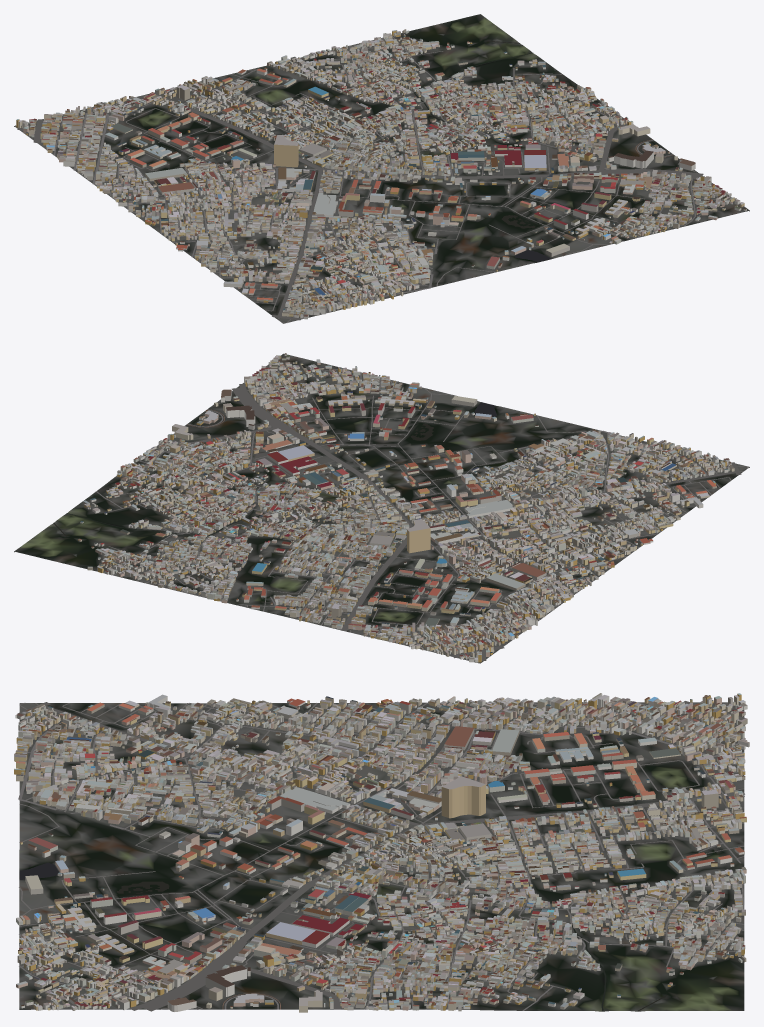
The picture shows the model from 3 angles, top to bottom: view 1: azimuth 30°, elevation 25°; view 2: azimuth 150°, elevation 25°; view 3: azimuth 270°, elevation 25°; orthographic projection. The views are drawn at different scales.
Visible parts, largest first — view 1: buildings, ground, roads, water; view 2: buildings, ground, roads, water; view 3: buildings, ground, roads, water.
Part boxes in pixels (left/top/right/bottom): buildings: left=16, top=29, right=746, bottom=319; ground: left=14, top=14, right=749, bottom=323; roads: left=14, top=36, right=731, bottom=323; water: left=414, top=41, right=551, bottom=261; buildings: left=78, top=353, right=734, bottom=662; ground: left=14, top=353, right=749, bottom=663; roads: left=96, top=358, right=748, bottom=663; water: left=53, top=402, right=497, bottom=536; buildings: left=14, top=693, right=749, bottom=1012; ground: left=19, top=702, right=744, bottom=1011; roads: left=17, top=701, right=744, bottom=1011; water: left=20, top=862, right=667, bottom=1011.
Bounding box in the file's own units: 1432 × 68.79 × 1422.
